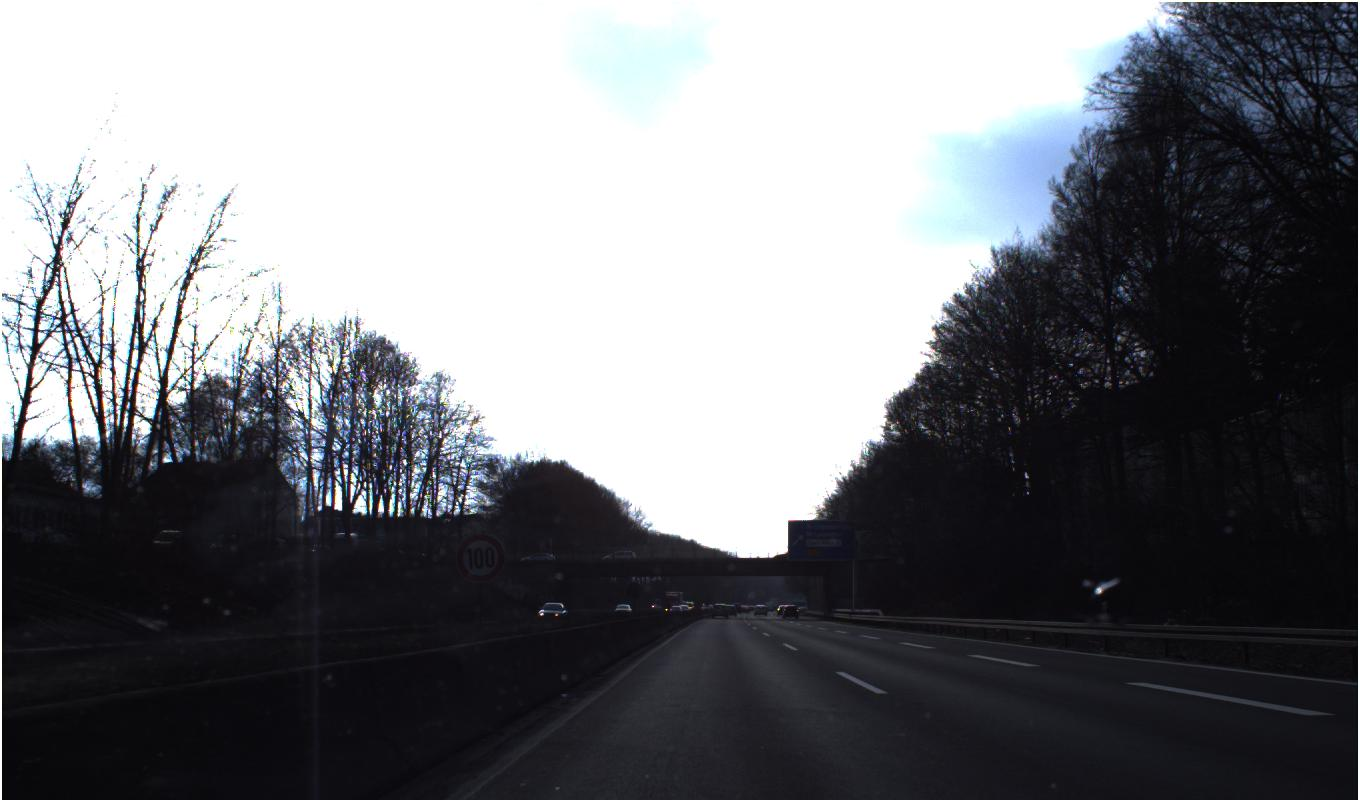prohibitory: (454, 531, 507, 584)
